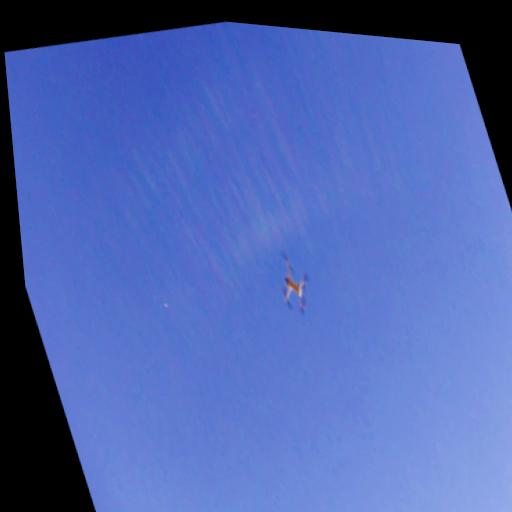drones: (267, 241, 325, 322)
